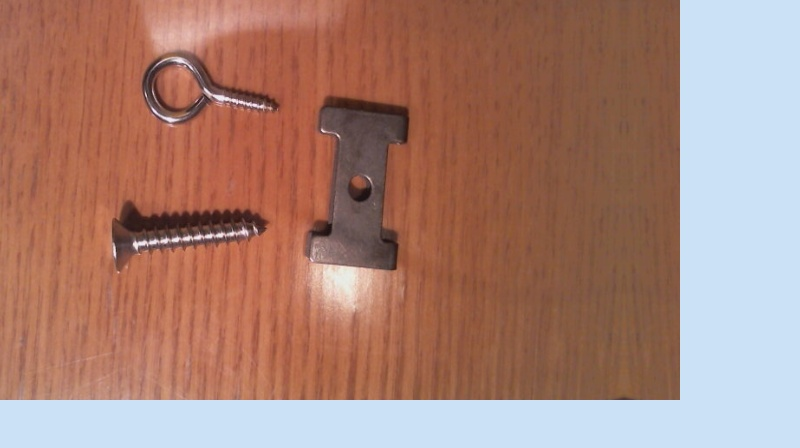O001: (139, 46, 285, 131)
O002: (308, 98, 413, 274)
S001: (106, 208, 270, 275)
